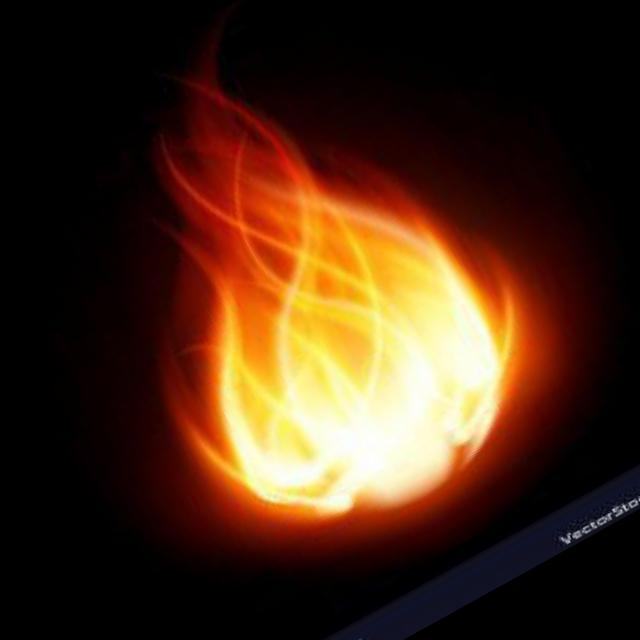fire: (36, 0, 592, 576)
